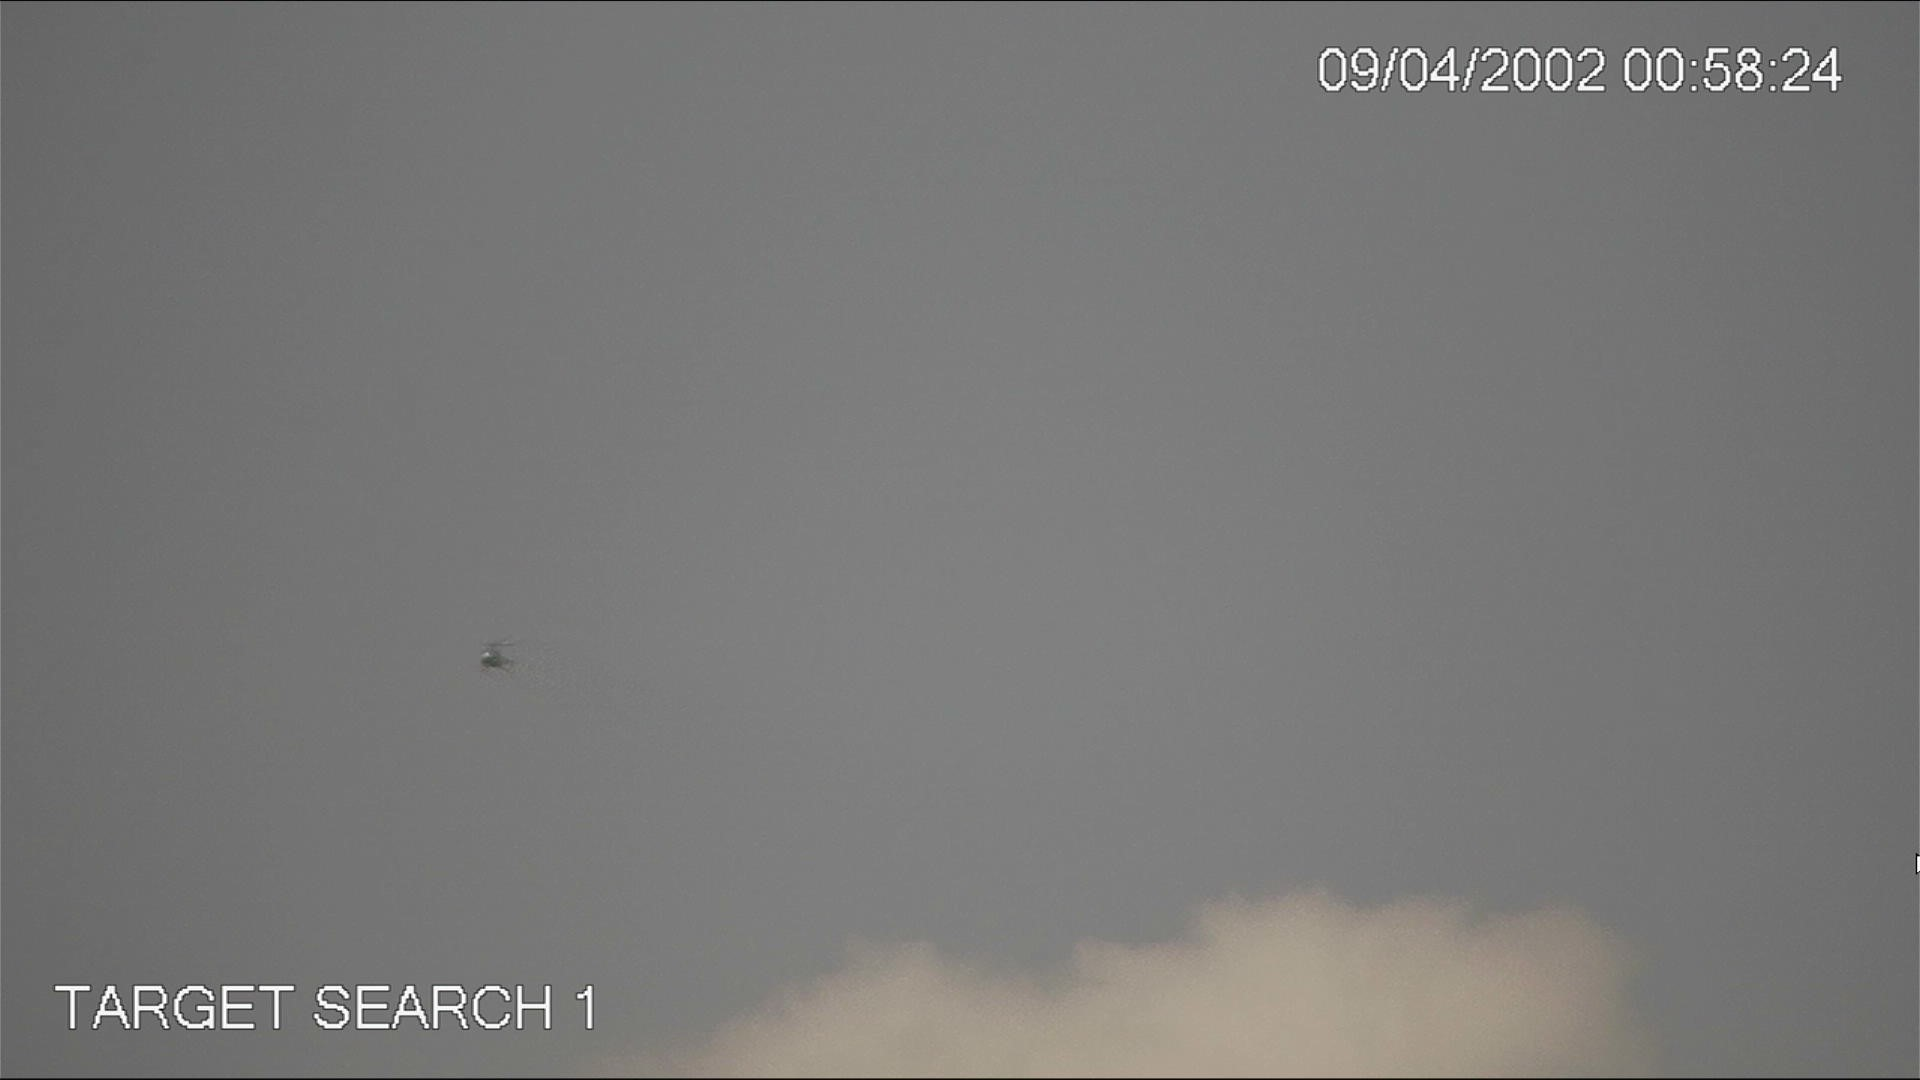SU_30: (475, 640, 516, 678)
